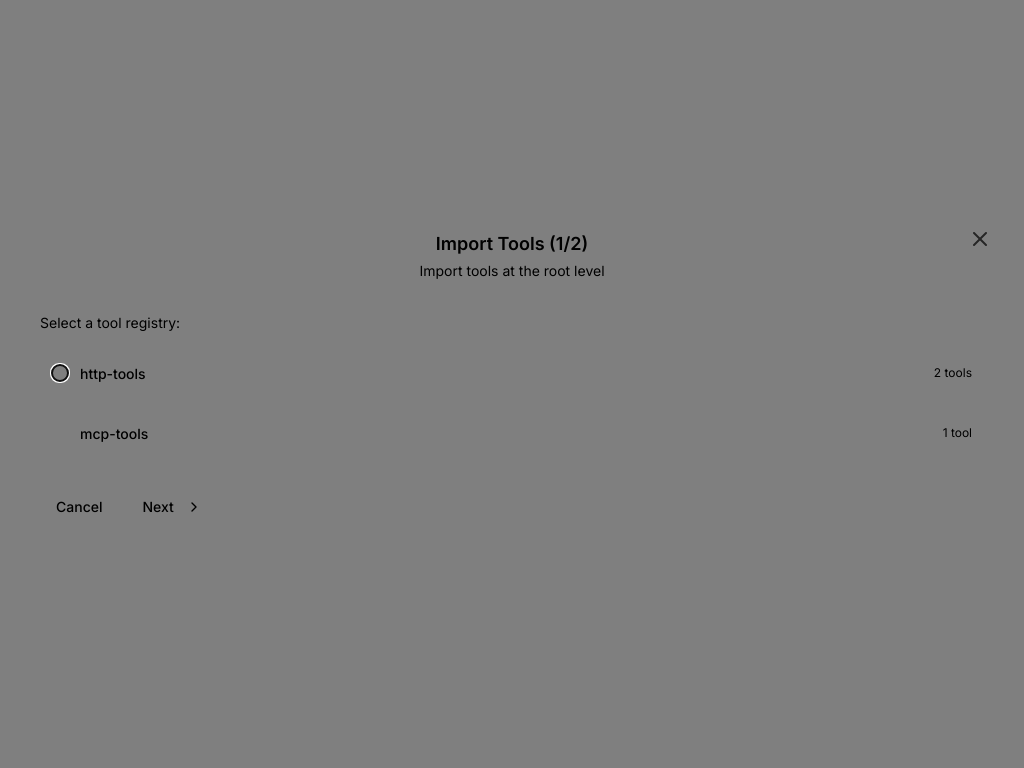
it: ImportToolDialog › should navigate to step 2 when Next clicked
Select registry
Step 1. Click the text "http-tools" → coordinates (113, 374), box [80,365,146,382]
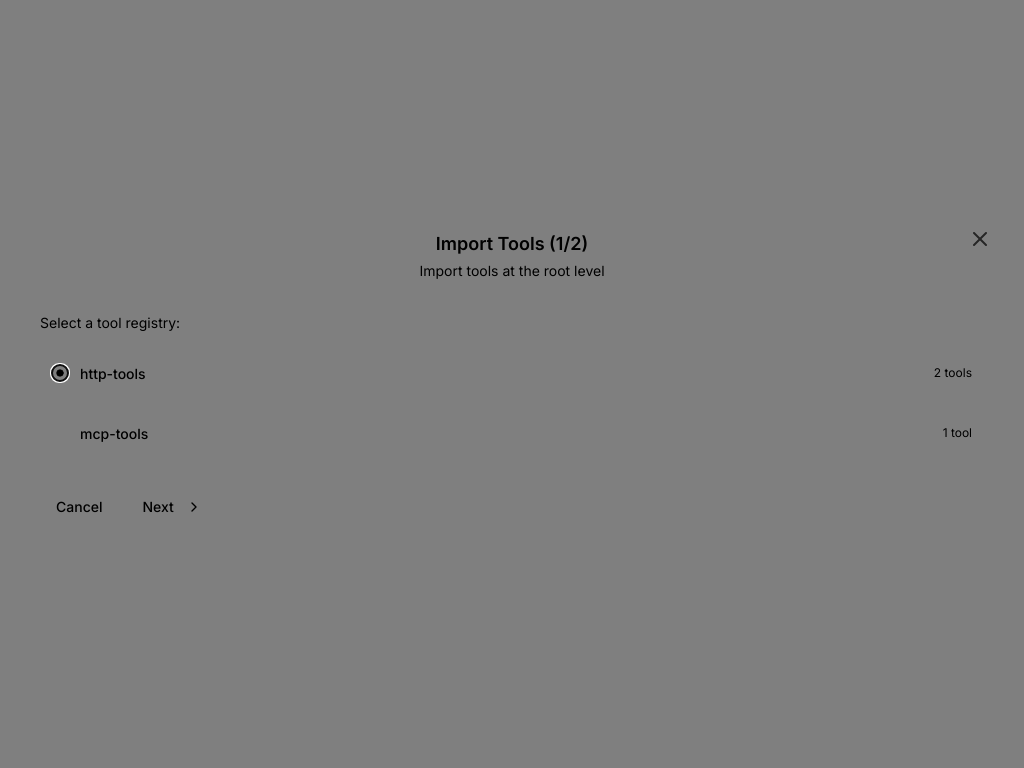
Click Next
Step 2. Click the button "Next" → coordinates (172, 507), box [126,489,218,525]
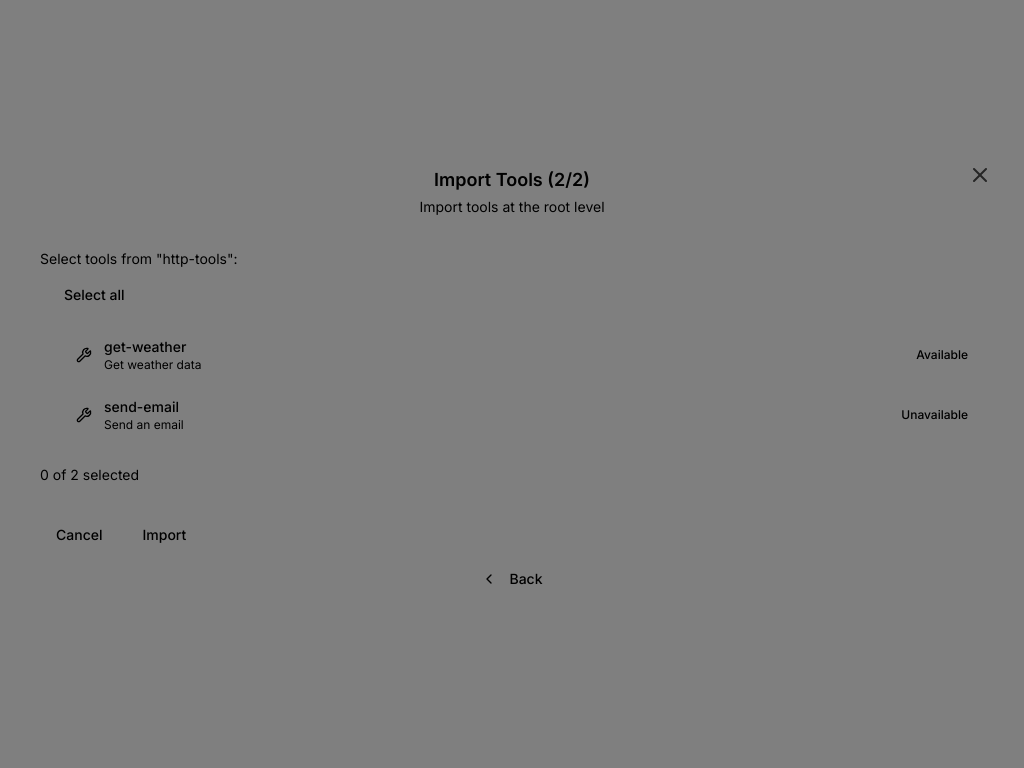
Now the heading "Import Tools (2/2)" is shown, box [434,169,590,190]
Now the text "Select tools from \"http-tools\":" is shown, box [40,250,238,267]
